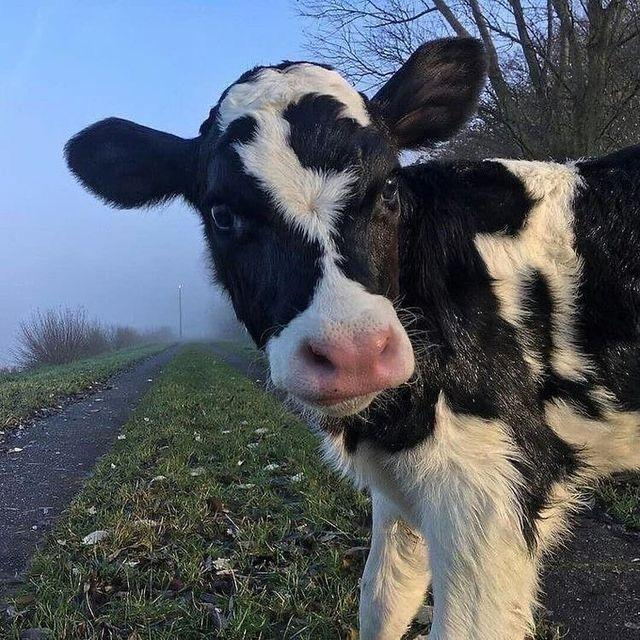cow: (32, 58, 640, 498)
